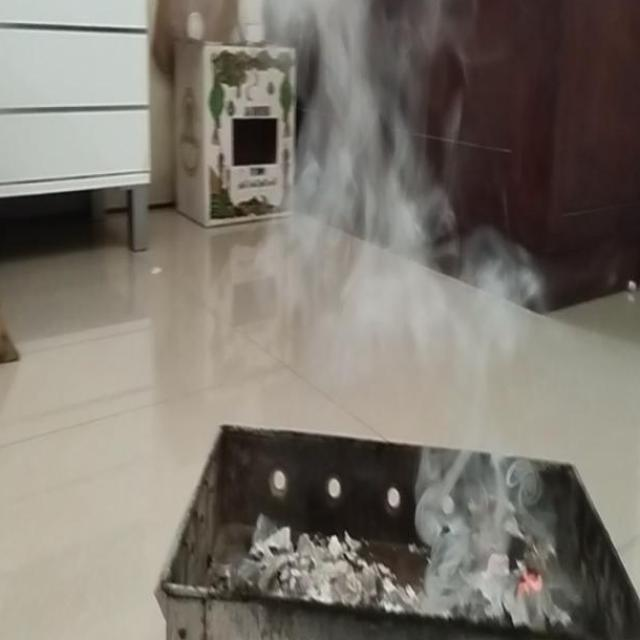fire: (283, 0, 431, 359), (412, 258, 555, 584)
